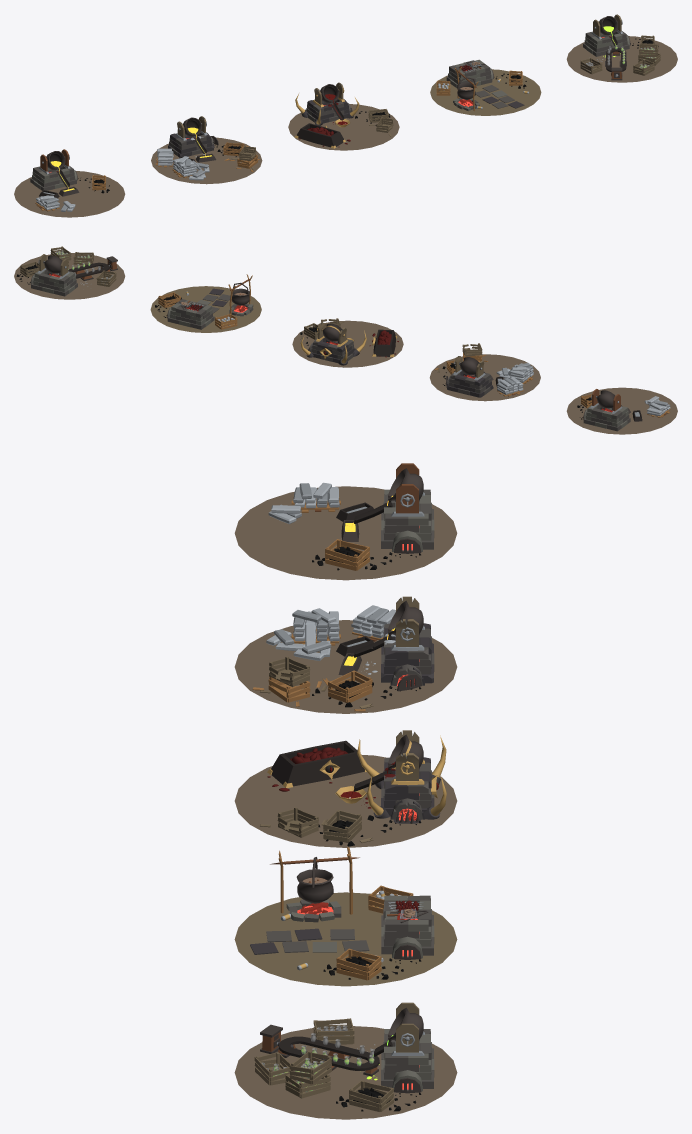
The model's file is 5 Smelters.fbx.
3 renders of one model, top to bottom at view 1: azimuth 30°, elevation 25°; view 2: azimuth 150°, elevation 25°; view 3: azimuth 270°, elevation 25°, orthographic. The views are drawn at different scales.
Parts seen in each view (by area): view 1: pCylinder14, pCylinder109, pCylinder151, polySurface374, polySurface38, polySurface338; view 2: pCylinder14, polySurface374, pCylinder109, polySurface38, pCylinder151, polySurface185, polySurface338, pCylinder172; view 3: pCylinder14, pCylinder109, polySurface374, polySurface38, pCylinder151, polySurface338, pCylinder172, polySurface54, polySurface185, polySurface442, pCube466, pCube328 (+3 smaller).
Part boxes in pixels (x1,y1,x2,y2): pCylinder14: (14,171,125,217); pCylinder109: (430,69,541,115); pCylinder151: (566,36,677,82); polySurface374: (288,104,399,150); polySurface38: (151,137,262,184); polySurface338: (296,123,343,147); pCylinder14: (566,387,677,434); polySurface374: (292,320,403,367); pCylinder109: (150,286,261,332); polySurface38: (429,354,540,401); pCylinder151: (14,253,125,299); polySurface185: (497,377,523,396); polySurface338: (373,329,395,356); pCylinder172: (68,262,109,278); pCylinder14: (234,486,457,580); pCylinder109: (234,892,457,986); polySurface374: (234,754,457,847); polySurface38: (234,620,457,713); pCylinder151: (234,1026,457,1119); polySurface338: (271,740,364,786); pCylinder172: (278,1036,379,1070); polySurface54: (328,670,373,707); polySurface185: (351,605,395,641); polySurface442: (319,810,363,846); pCube466: (289,1051,331,1084); pCube328: (336,948,381,980).
Size of the model in its own units: 106 by 5.94 by 15.79.
